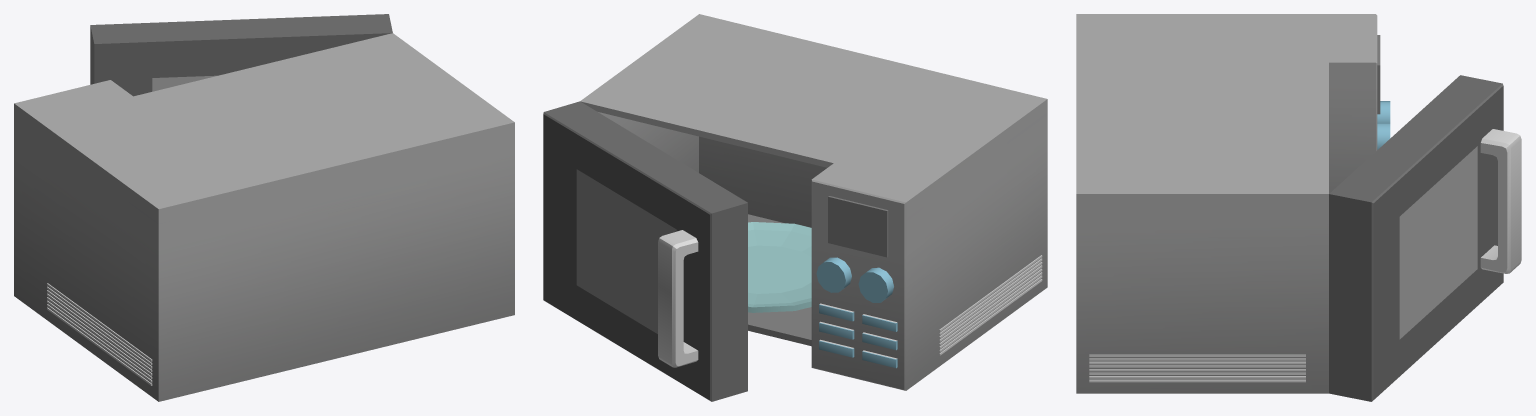
File: Ktchen_Microwave.FBX
3 views of the same model, side by side, from view 1: azimuth 30°, elevation 25°; view 2: azimuth 150°, elevation 25°; view 3: azimuth 270°, elevation 25° (orthographic). The views are drawn at different scales.
Visible parts, largest first — view 1: Kitchen_Microwave, Kitchen_Microwave_door; view 2: Kitchen_Microwave, Kitchen_Microwave_door; view 3: Kitchen_Microwave, Kitchen_Microwave_door.
Part boxes in pixels (<box>): Kitchen_Microwave: <box>14,33,514,401</box>; Kitchen_Microwave_door: <box>90,14,392,96</box>; Kitchen_Microwave: <box>580,14,1047,390</box>; Kitchen_Microwave_door: <box>543,101,747,401</box>; Kitchen_Microwave: <box>1076,14,1390,393</box>; Kitchen_Microwave_door: <box>1329,75,1521,401</box>.
Bounding box in the file's own units: 24.37 × 12.01 × 24.28.
